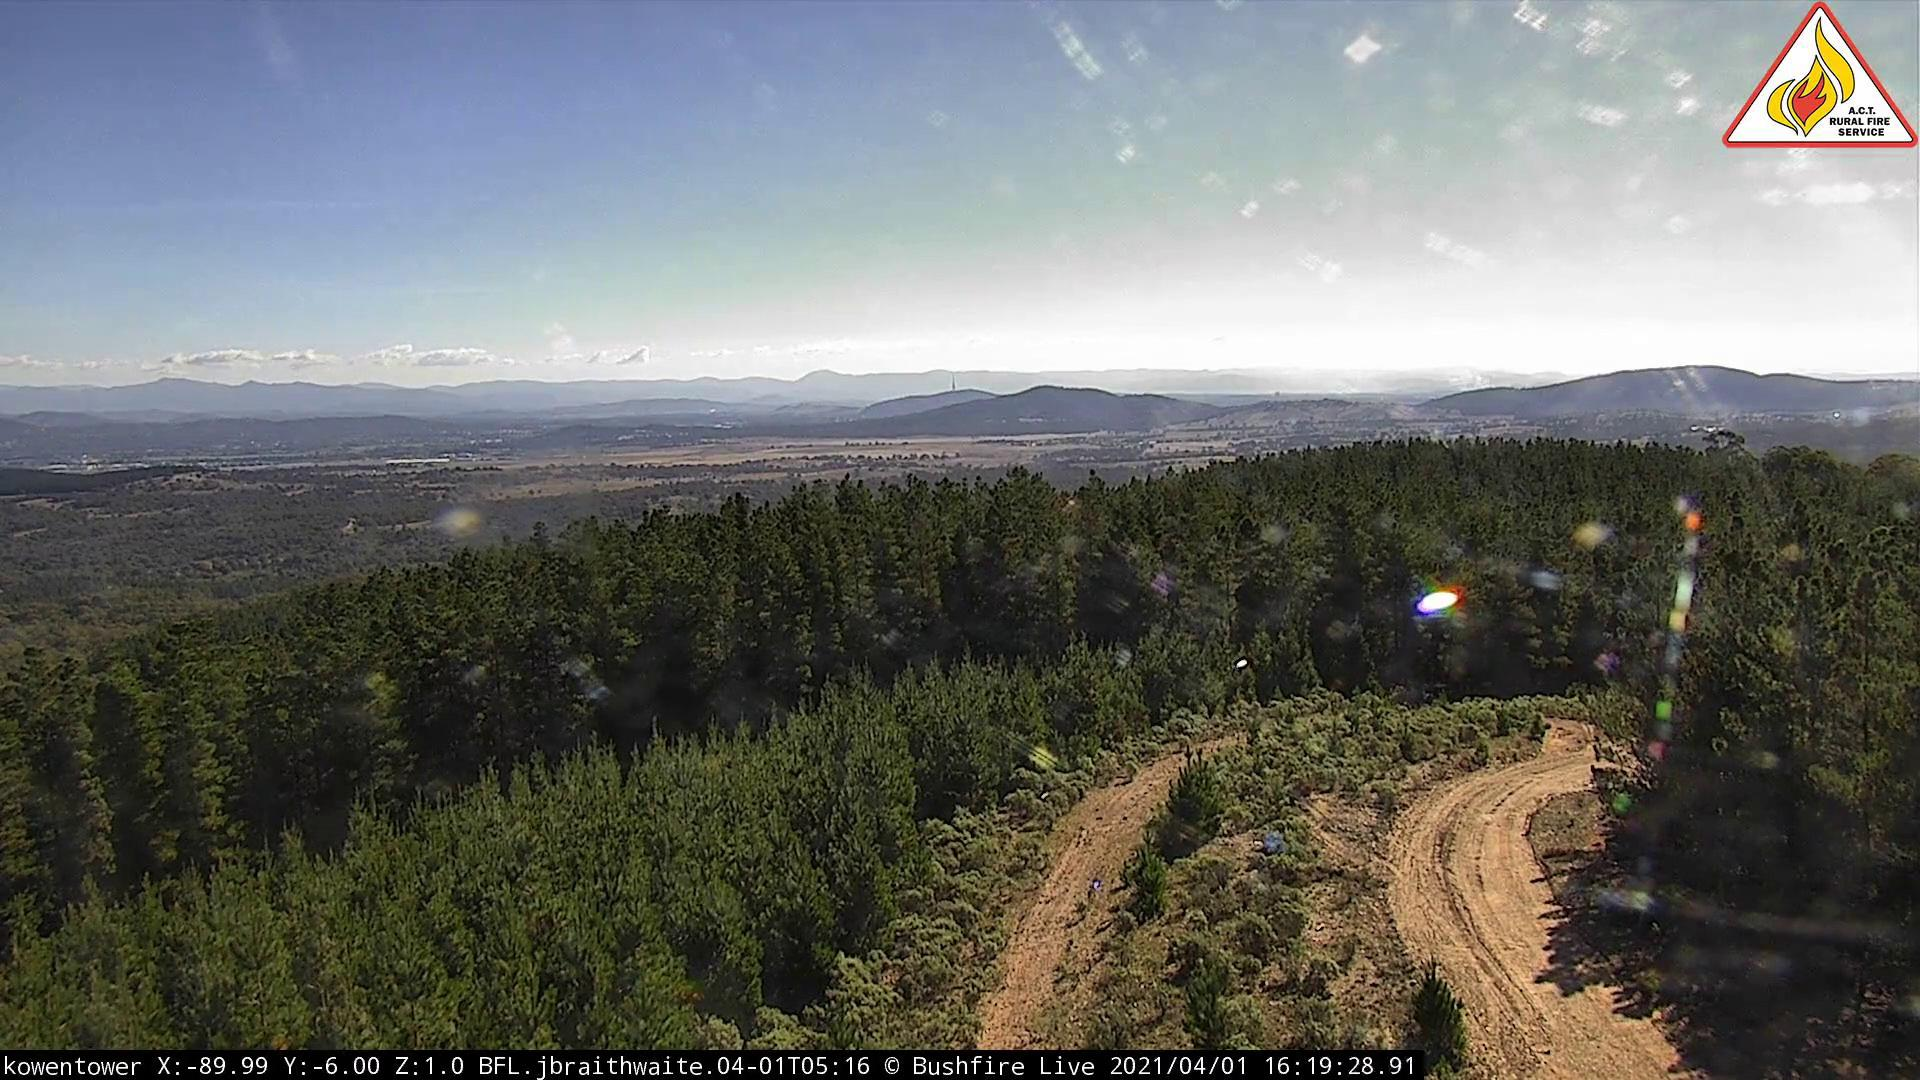Smoke: (1422, 357, 1509, 400)
